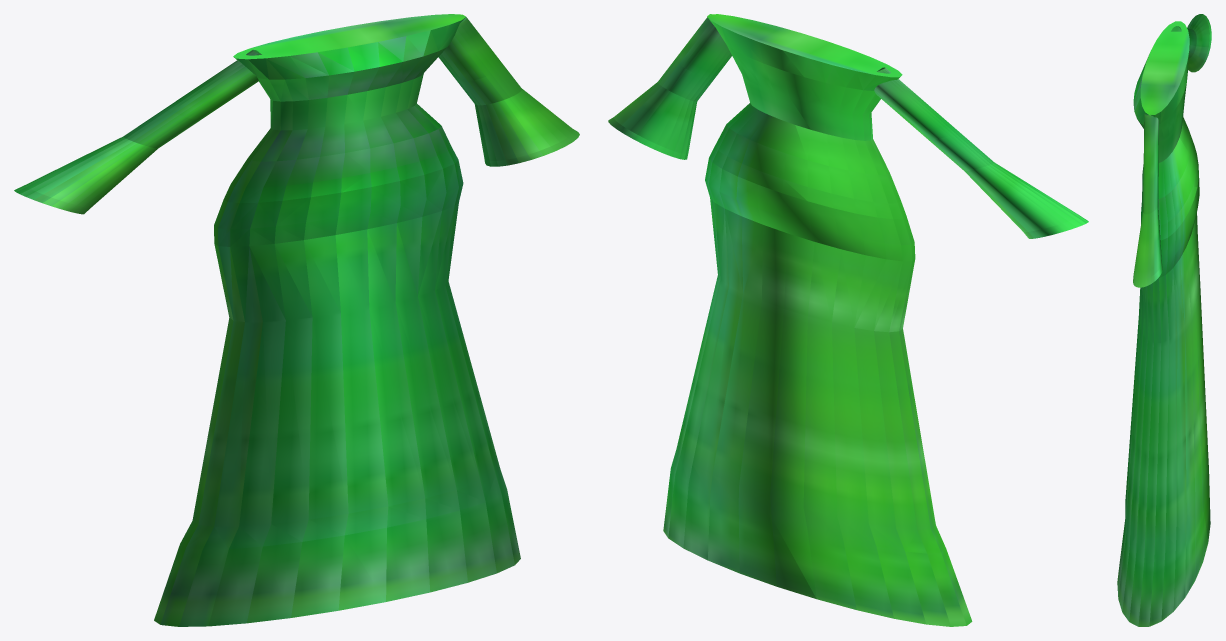
The model's file is green_dress_scale120.obj.
3 views of the same model, side by side, from view 1: azimuth 30°, elevation 25°; view 2: azimuth 150°, elevation 25°; view 3: azimuth 270°, elevation 25° (orthographic). The views are drawn at different scales.
Parts seen in each view (by area): view 1: Mesh3 my_dress1 Model, Mesh2 Group2 my_dress1 Model, Mesh1 Group1 my_dress1 Model; view 2: Mesh3 my_dress1 Model, Mesh2 Group2 my_dress1 Model, Mesh1 Group1 my_dress1 Model; view 3: Mesh3 my_dress1 Model, Mesh1 Group1 my_dress1 Model, Mesh2 Group2 my_dress1 Model.
Part boxes in pixels (x1=…): Mesh3 my_dress1 Model: x1=154, y1=14, x2=520, y2=626; Mesh2 Group2 my_dress1 Model: x1=14, y1=49, x2=261, y2=214; Mesh1 Group1 my_dress1 Model: x1=438, y1=16, x2=579, y2=166; Mesh3 my_dress1 Model: x1=663, y1=14, x2=972, y2=626; Mesh2 Group2 my_dress1 Model: x1=874, y1=67, x2=1088, y2=238; Mesh1 Group1 my_dress1 Model: x1=608, y1=14, x2=731, y2=159; Mesh3 my_dress1 Model: x1=1117, y1=21, x2=1210, y2=626; Mesh1 Group1 my_dress1 Model: x1=1133, y1=113, x2=1162, y2=287; Mesh2 Group2 my_dress1 Model: x1=1171, y1=14, x2=1211, y2=72.
Bounding box in the file's own units: 1.15 × 1.14 × 0.1974.
Materials: 1 (1 with a texture image).
